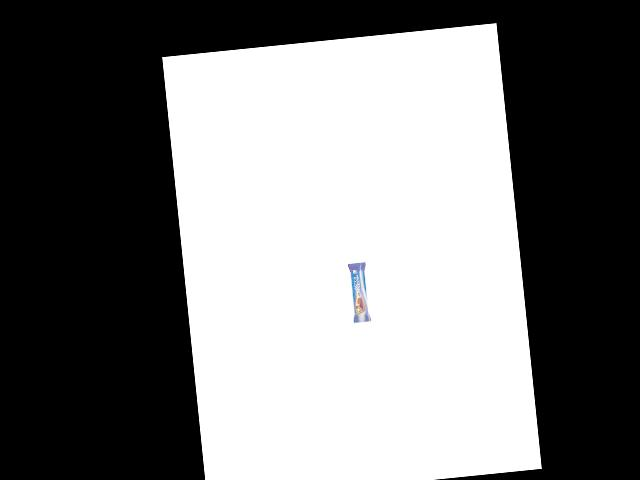chocolate: (341, 260, 373, 331)
